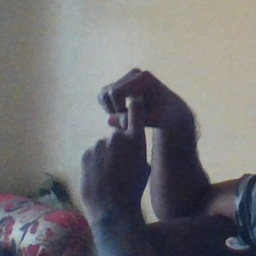Q: (77, 67, 177, 193)
